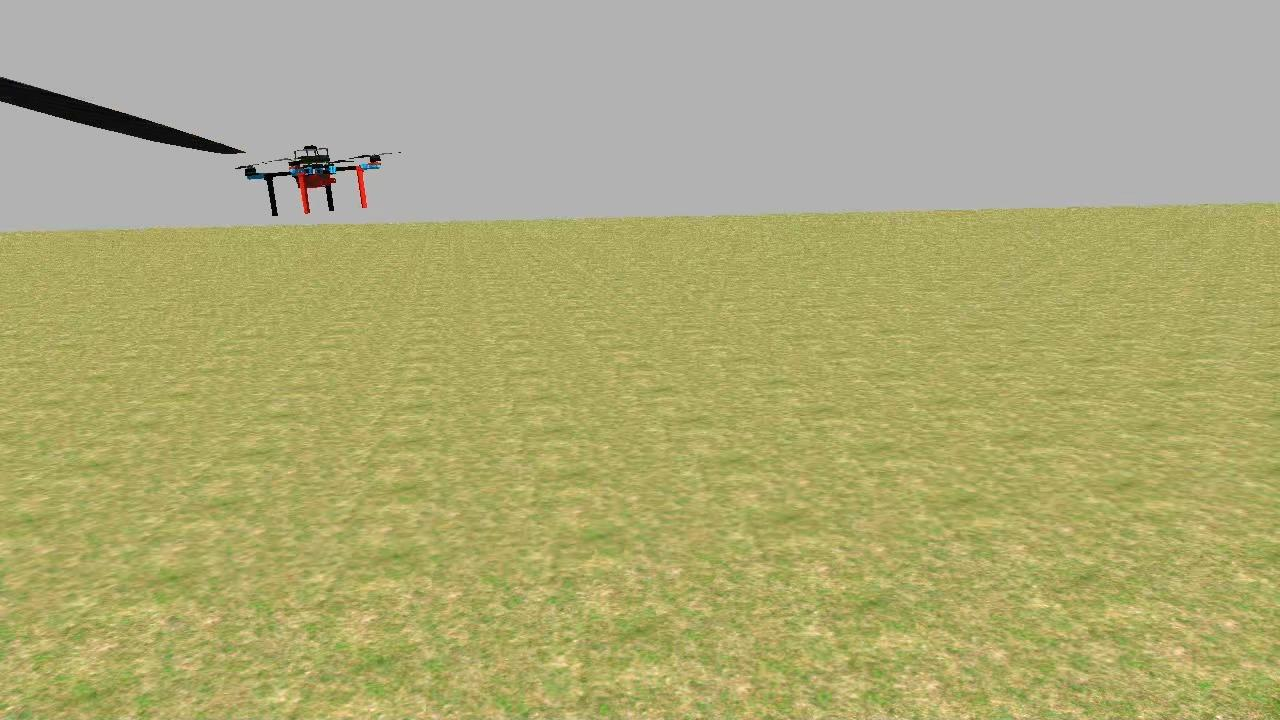UAV: (216, 124, 407, 236)
